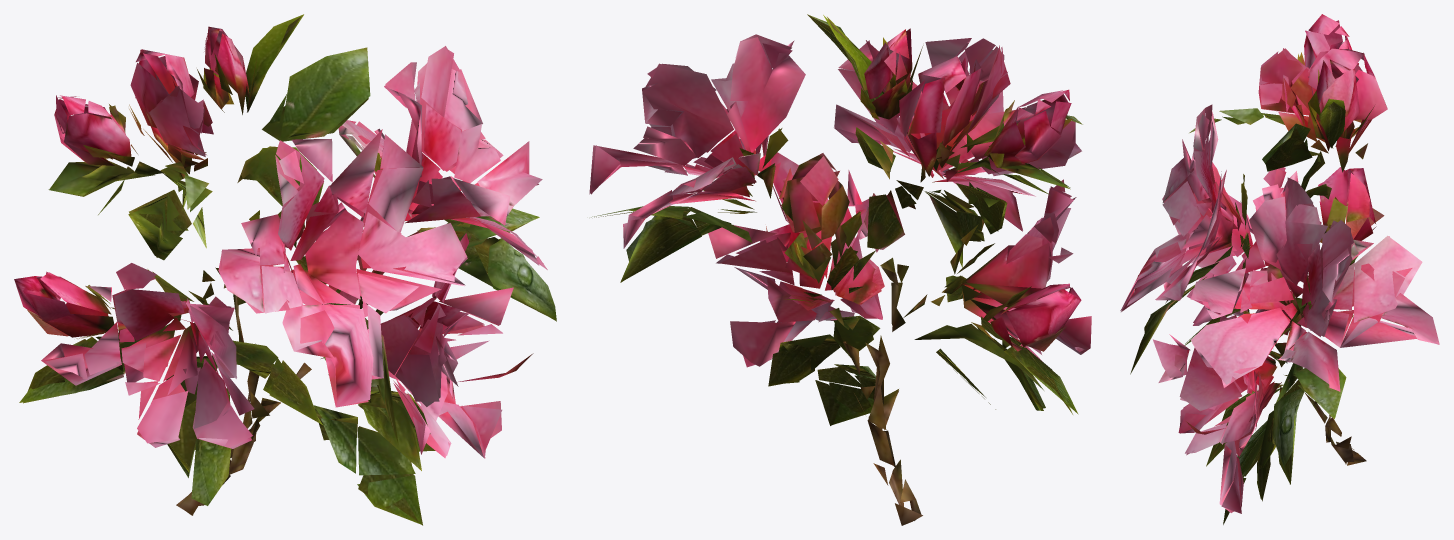
Rendered from azalea-far-v2.glb.
3 renders of one model, left to right at view 1: azimuth 30°, elevation 25°; view 2: azimuth 150°, elevation 25°; view 3: azimuth 270°, elevation 25°, orthographic. The views are drawn at different scales.
Parts seen in each view (by area): view 1: AzaleaFar; view 2: AzaleaFar; view 3: AzaleaFar.
Boxes of the visible parts, x1=… form: AzaleaFar: x1=14, y1=14, x2=556, y2=525; AzaleaFar: x1=589, y1=14, x2=1091, y2=525; AzaleaFar: x1=1120, y1=14, x2=1439, y2=524.
Size of the model in its own units: 1.08 by 0.9863 by 0.6911.
1 material, 1 textured.
